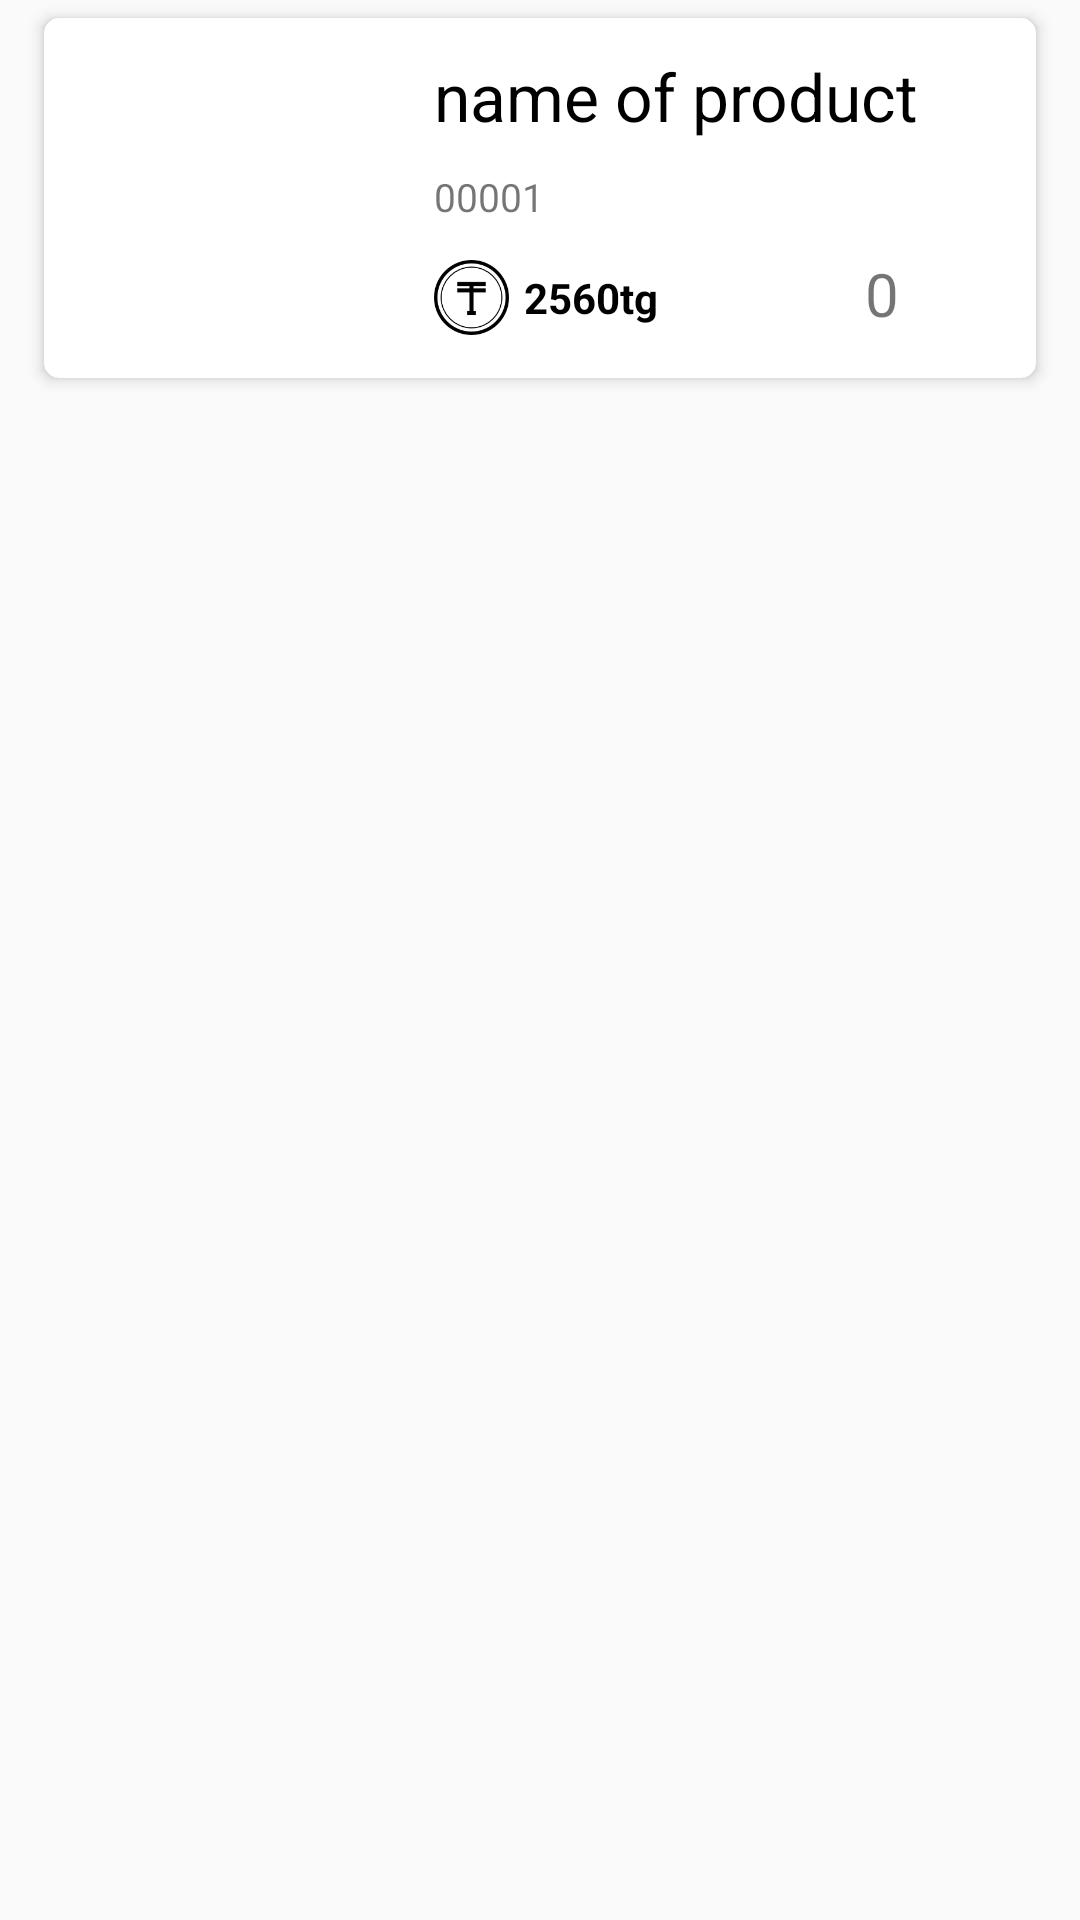

Point at icon controls on the screen. Image size 1080*1920, points as [x,y].
tenge: [471,297]
